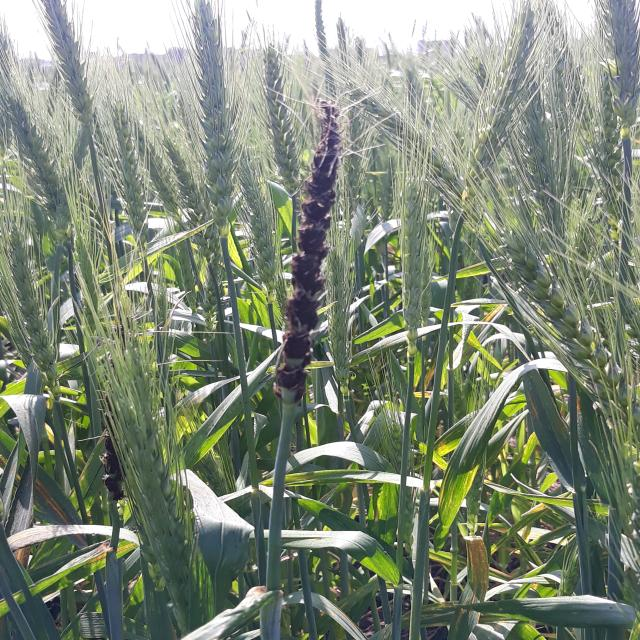loose_charred: (254, 104, 411, 458), (87, 425, 168, 528)
yellow_rust: (0, 518, 139, 583), (0, 444, 78, 526), (449, 536, 507, 640), (411, 342, 456, 414), (160, 377, 237, 418), (436, 257, 516, 290), (312, 595, 371, 639), (458, 292, 514, 334)
